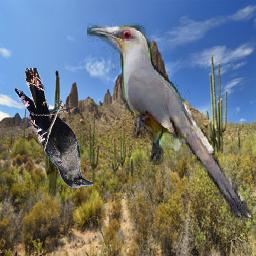Crow: (13, 68, 93, 188)
Cuckoo: (88, 24, 253, 223)
